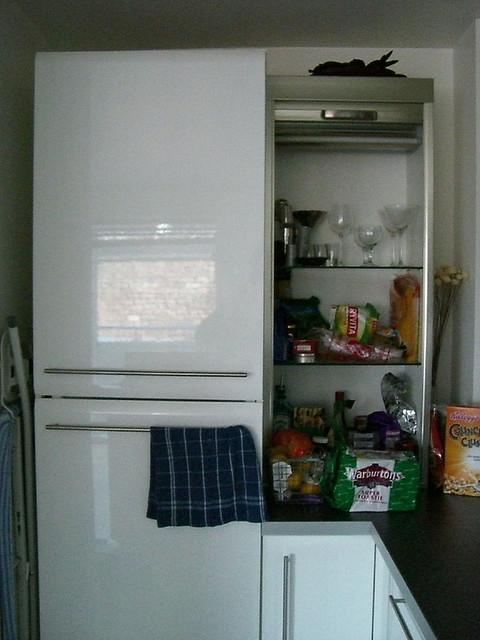apple: (287, 434, 314, 458), (271, 428, 300, 446)
